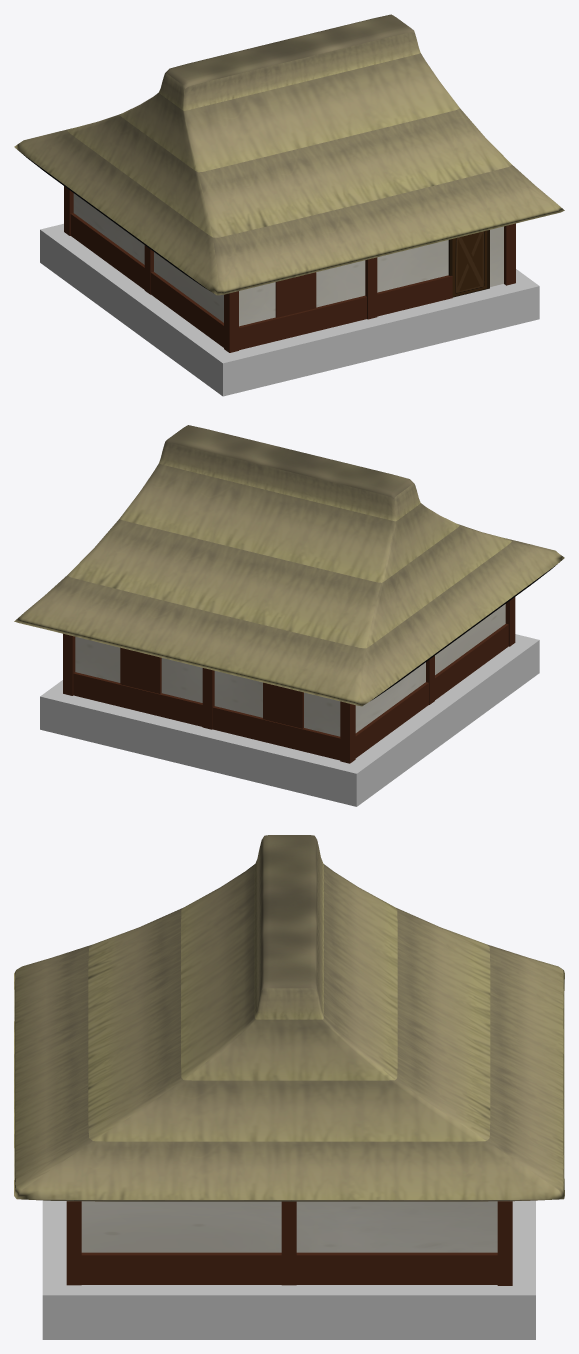
The model's file is building1_fixed.fbx.
3 views of the same model, one above another, from view 1: azimuth 30°, elevation 25°; view 2: azimuth 150°, elevation 25°; view 3: azimuth 270°, elevation 25° (orthographic). The views are drawn at different scales.
Visible parts, largest first — view 1: Cube.001; view 2: Cube.001; view 3: Cube.001.
Boxes of the visible parts, x1,y1,x2,y2 form: Cube.001: (14, 14, 564, 396); Cube.001: (14, 425, 564, 806); Cube.001: (14, 835, 564, 1339).
Size of the model in its own units: 2216 by 1469 by 2234.
